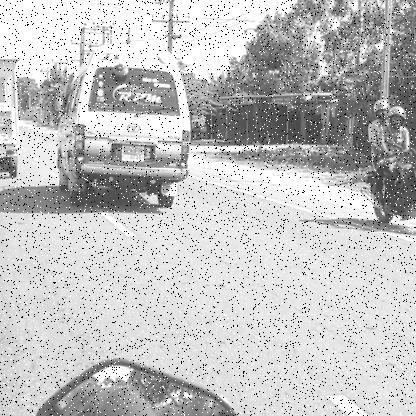motorcycle: (359, 143, 416, 242)
